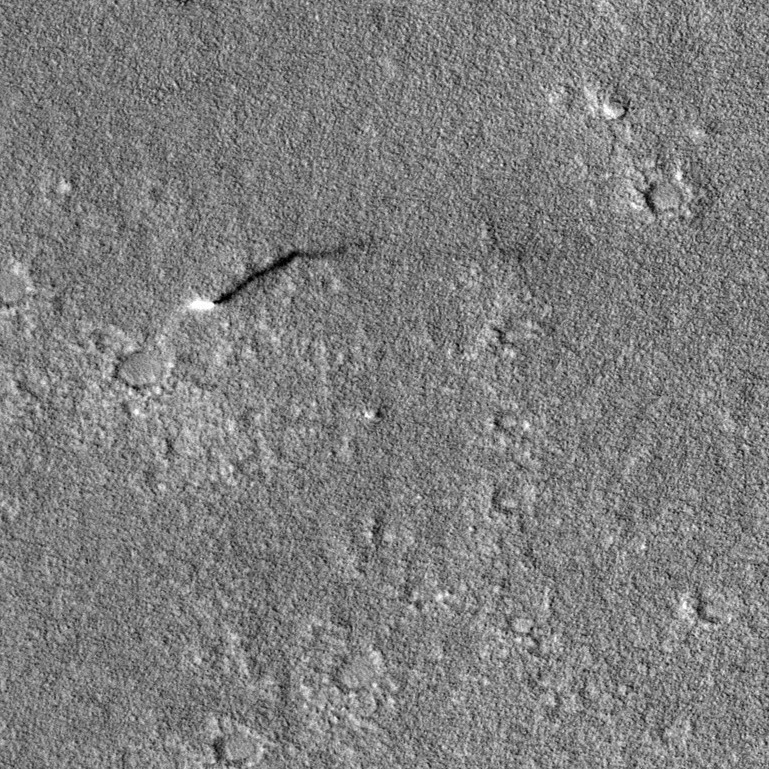dust_devil: (186, 241, 355, 314)
